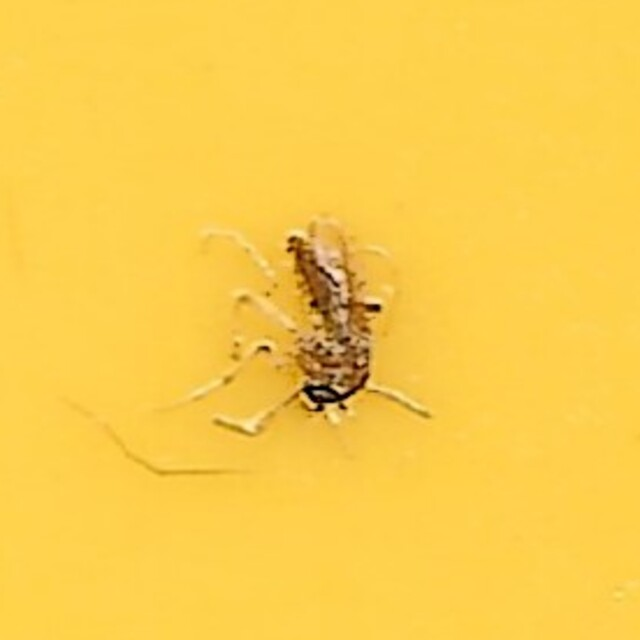Nematocera: (232, 210, 408, 430)
